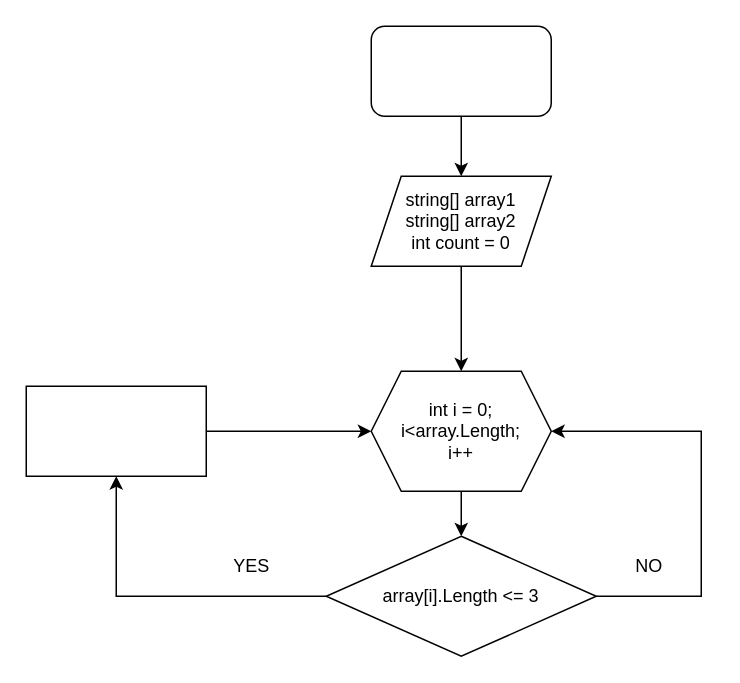
Some shapes in this 740 by 683 pixel diagram are drawn without their labels. The centre of each missing label's shape, as x and y in pixels:
array2[count]=array[i] count++: (115,430)
SecondArray: (460,70)
